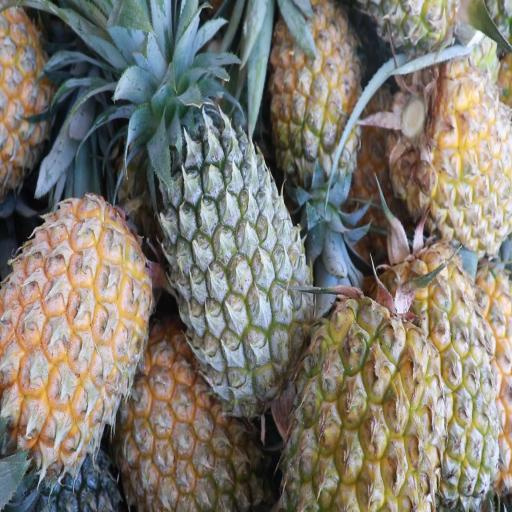------------------------------: (268, 0, 358, 188)
Pineapple - v8 v1: (0, 195, 144, 449), (279, 288, 439, 512), (384, 259, 498, 496), (120, 328, 258, 512), (387, 62, 512, 238)
